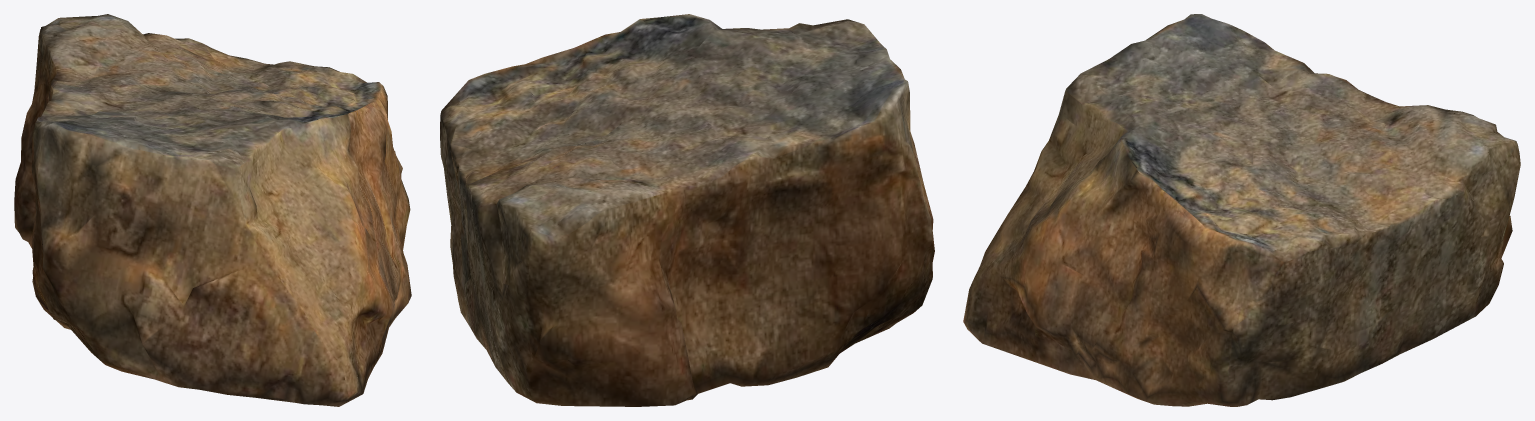
The model's file is namaqualand_boulder_03.glb.
3 views of the same model, side by side, from view 1: azimuth 30°, elevation 25°; view 2: azimuth 150°, elevation 25°; view 3: azimuth 270°, elevation 25° (orthographic). The views are drawn at different scales.
Parts seen in each view (by area): view 1: boulder_03_LOD0; view 2: boulder_03_LOD0; view 3: boulder_03_LOD0.
Part boxes in pixels (<box>): boulder_03_LOD0: <box>14,14,411,406</box>; boulder_03_LOD0: <box>440,14,934,406</box>; boulder_03_LOD0: <box>963,14,1520,406</box>.
Size of the model in its own units: 2.4 by 1.47 by 3.07.
1 material, 1 textured.
